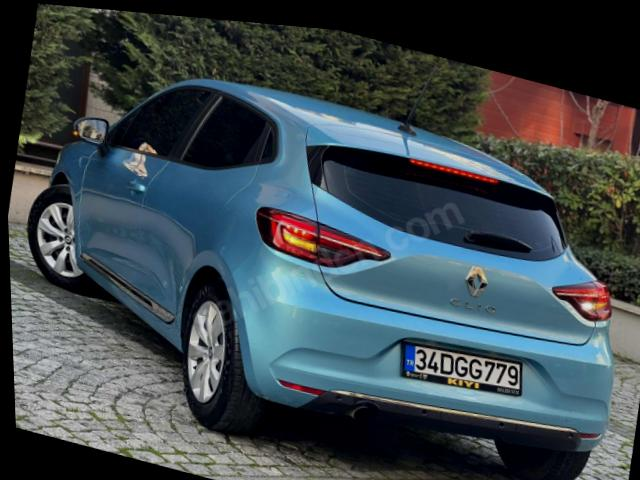plaka: (402, 343, 520, 395)
